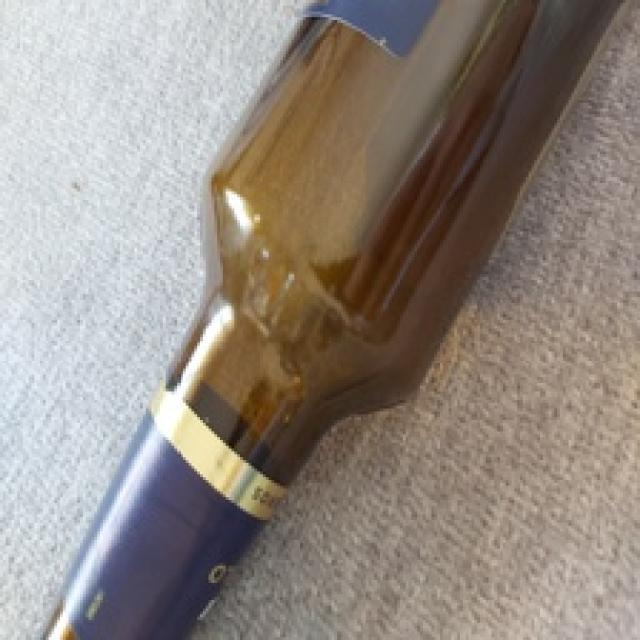Glass: (45, 0, 618, 640)
